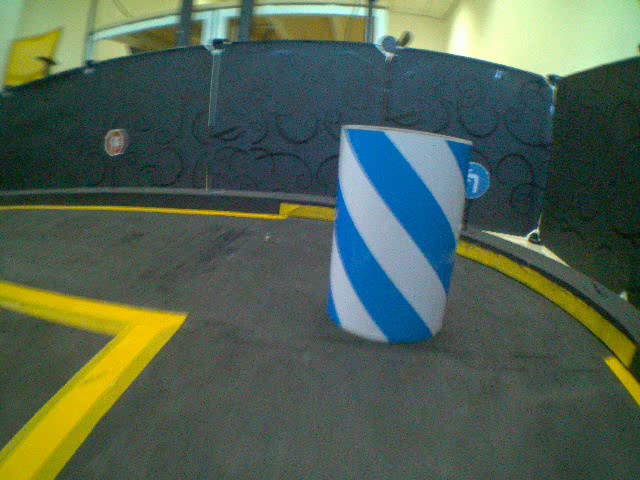bucket: (320, 120, 472, 349)
